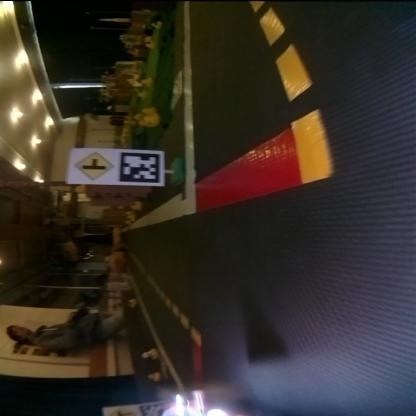Duckie: (142, 348, 158, 360), (147, 372, 159, 382)
Intersection sign: (72, 151, 112, 181)
QR code: (118, 150, 158, 183)
